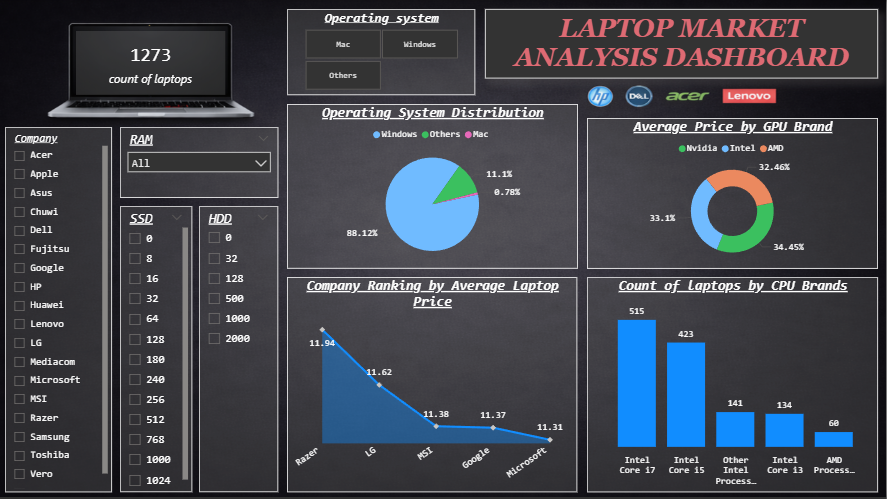

What the dashboard file says about the page in this screenshot:
{"tool":"powerbi","page":{"name":"1","canvas":[1280,720],"ordinal":0},"visuals":[{"type":"pieChart","title":"Operating System Distribution","fields":{"Category":["cleaned_Laptop_Data.Os"],"Y":["Sum(cleaned_Laptop_Data.id)"]},"box":[415.6,150.7,418.5,237.1],"z":0},{"type":"columnChart","title":"Count of laptops by CPU Brands","fields":{"Category":["cleaned_Laptop_Data.Cpu_brand"],"Y":["CountNonNull(cleaned_Laptop_Data.count of laptops)"]},"box":[848.2,400.3,419,309.6],"z":1000},{"type":"lineChart","title":"Company Ranking by Average Laptop Price ","fields":{"Category":["cleaned_Laptop_Data.Company"],"Y":["Avg(cleaned_Laptop_Data.Price)"]},"box":[416.2,400.3,417.6,309.6],"z":2000},{"type":"donutChart","title":"Average Price by GPU Brand","fields":{"Category":["cleaned_Laptop_Data.Gpu_brand"],"Y":["Avg(cleaned_Laptop_Data.Price)"]},"box":[848.8,171.2,418.5,216.6],"z":3000},{"type":"slicer","fields":{"Values":["cleaned_Laptop_Data.Company"]},"box":[10.1,184.3,154.1,525.6],"z":4000},{"type":"slicer","fields":{"Values":["cleaned_Laptop_Data.Ram"]},"box":[175.6,184.4,228.3,102.4],"z":5000},{"type":"slicer","fields":{"Values":["cleaned_Laptop_Data.SSD"]},"box":[175.7,298.1,103.7,411.8],"z":6000},{"type":"card","fields":{"Values":["CountNonNull(cleaned_Laptop_Data.count of laptops)"]},"box":[112.3,46.1,214.6,92.2],"z":7000},{"type":"slicer","fields":{"Values":["cleaned_Laptop_Data.HDD"]},"box":[289.4,298.1,113.8,411.8],"z":8000},{"type":"slicer","title":"Operating system","fields":{"Values":["cleaned_Laptop_Data.Os"]},"box":[416.2,14.4,270.7,123.8],"z":9000},{"type":"textbox","box":[701,14.6,566.3,99.5],"z":10000}]}

Visuals, with their boxes in screenshot pixels (x1, y1, x2, y2), scaled from the page's 1280x720 canvas onto the 887x499 screenshot:
"Operating System Distribution" pieChart: 288/104/578/269
"Count of laptops by CPU Brands" columnChart: 588/277/878/492
"Company Ranking by Average Laptop Price " lineChart: 288/277/578/492
"Average Price by GPU Brand" donutChart: 588/119/878/269
slicer - cleaned_Laptop_Data.Company: 7/128/114/492
slicer - cleaned_Laptop_Data.Ram: 122/128/280/199
slicer - cleaned_Laptop_Data.SSD: 122/207/194/492
card - CountNonNull(cleaned_Laptop_Data.count of laptops): 78/32/227/96
slicer - cleaned_Laptop_Data.HDD: 201/207/279/492
"Operating system" slicer: 288/10/476/96
textbox: 486/10/878/79
